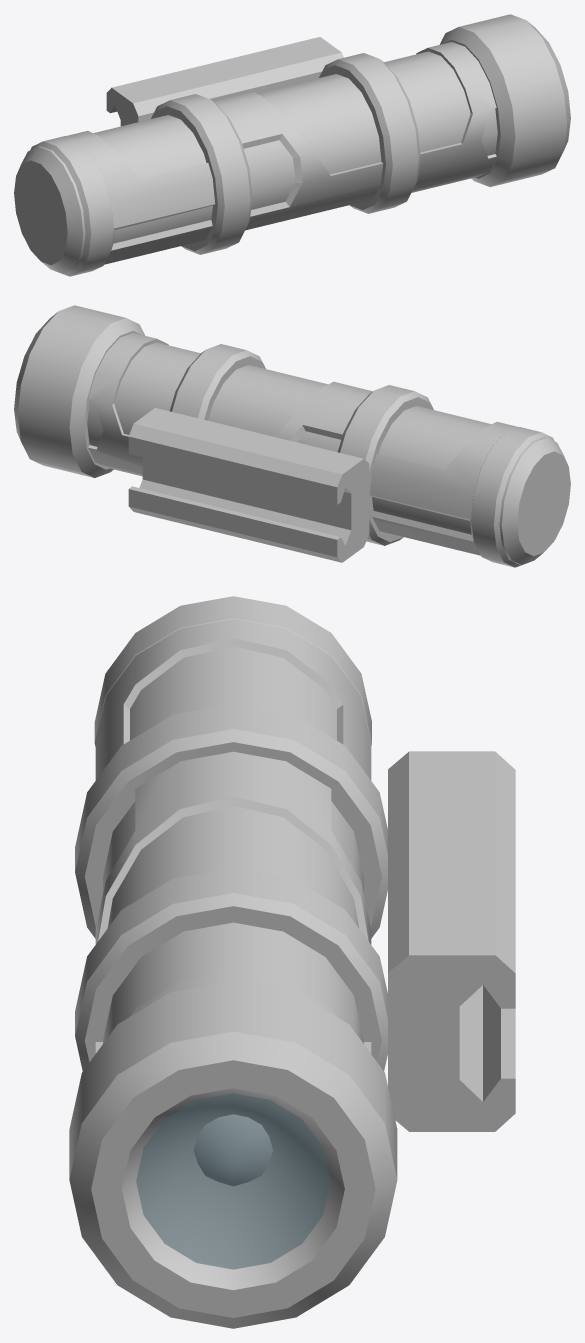
File: Tactical_Flashlight_03.fbx
3 renders of one model, top to bottom at view 1: azimuth 30°, elevation 25°; view 2: azimuth 150°, elevation 25°; view 3: azimuth 270°, elevation 25°, orthographic. The views are drawn at different scales.
Parts seen in each view (by area): view 1: Tactical_Flashlight_03; view 2: Tactical_Flashlight_03; view 3: Tactical_Flashlight_03.
Boxes of the visible parts, bbox=[...] form: Tactical_Flashlight_03: bbox=[14, 14, 570, 276]; Tactical_Flashlight_03: bbox=[14, 305, 570, 567]; Tactical_Flashlight_03: bbox=[69, 596, 515, 1328].
Bounding box in the file's own units: 17.78 × 5.11 × 6.95.
